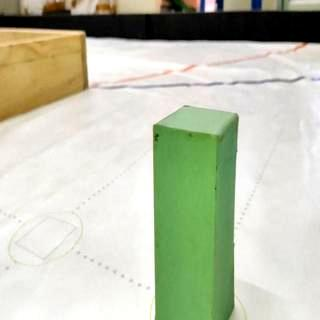greenbox: (150, 103, 242, 320)
